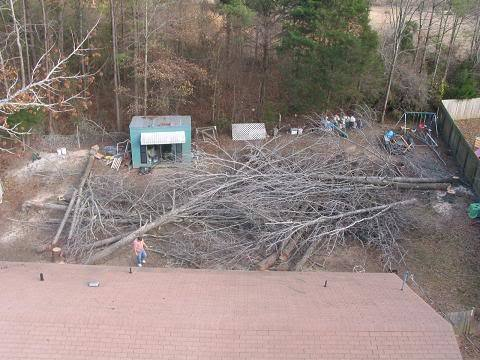building: (129, 113, 195, 171)
container: (467, 201, 479, 219), (60, 145, 67, 157), (56, 145, 61, 156)
person: (130, 233, 150, 267)
trash: (319, 113, 358, 138)
